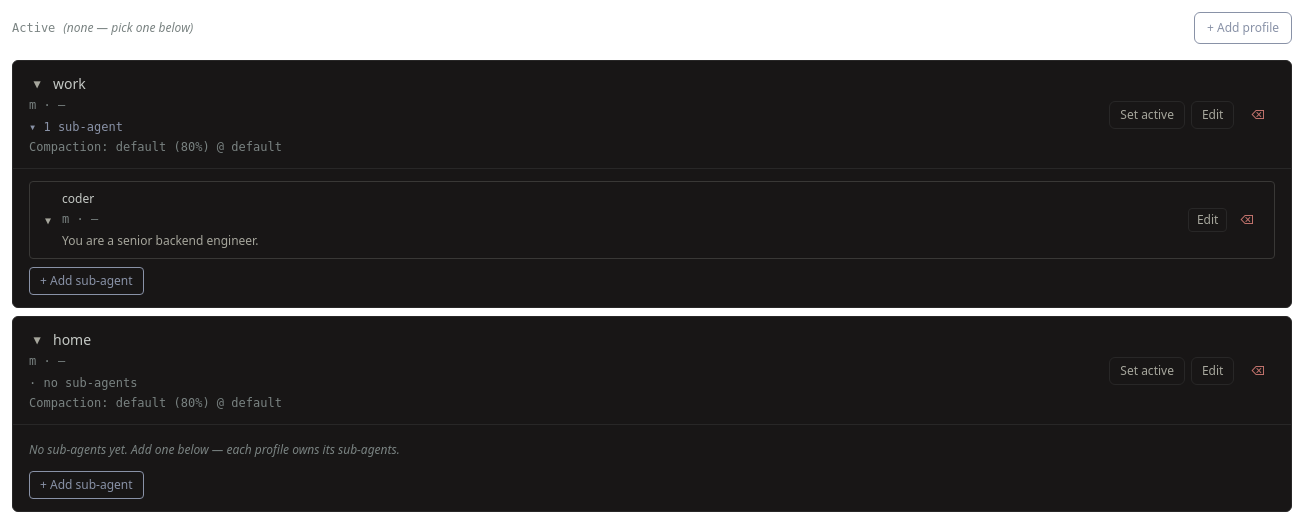
Test: ProfilesSection › collapses and re-expands one profile without changing the others
What coordinates should you click on to do the following:
click the button with test id "expand-btn-work"
I would click on:
 (37, 84)
Its box is [29,76,45,92].
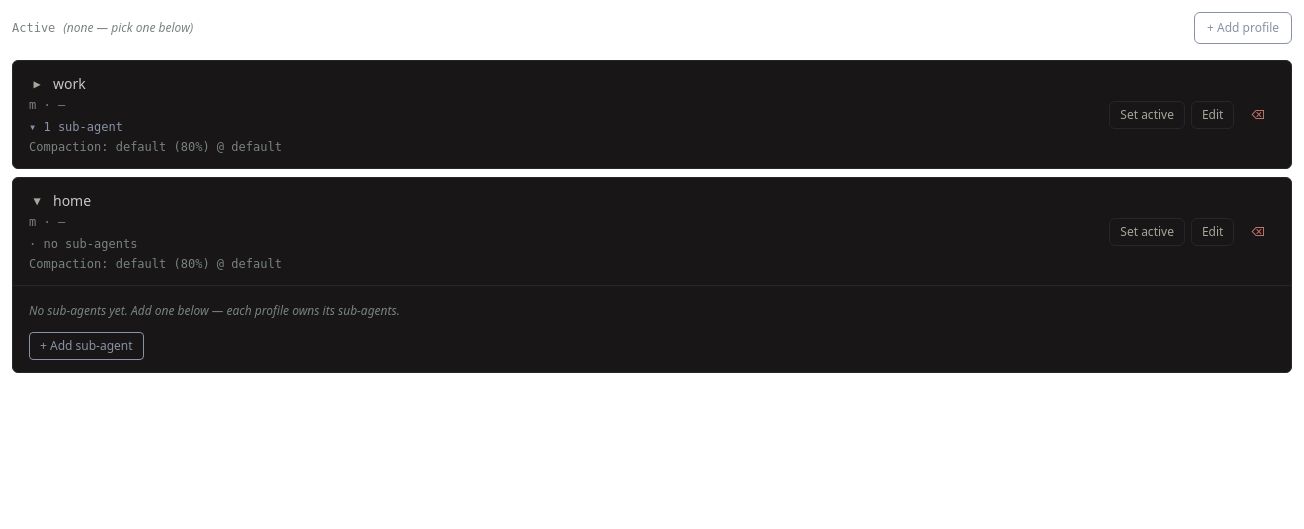
expect the element with test id "sub-agents-list-home" is shown: met, box [13,285,1291,372]
What coordinates should you click on to do the following:
click the button with test id "expand-btn-work"
I would click on:
 (37, 84)
Its box is [29,76,45,92].
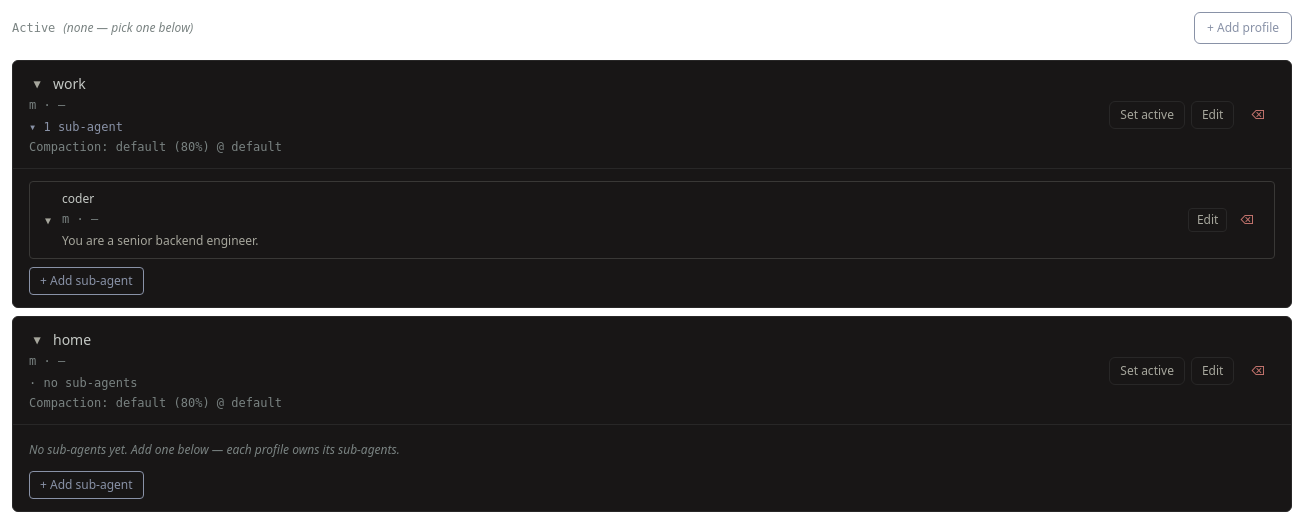
expect the element with test id "sub-agents-list-work" is shown: met, box [13,168,1291,307]
